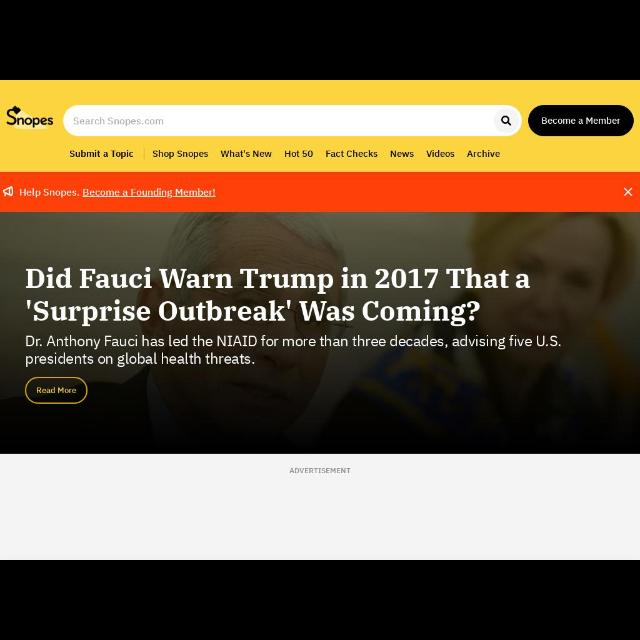backgroundimage: (1, 213, 640, 453)
button: (494, 108, 518, 134)
icon: (622, 186, 634, 198), (4, 186, 15, 198), (502, 115, 512, 126)
image: (6, 106, 54, 130)
input: (63, 104, 523, 138)
multitab: (63, 138, 509, 172)
text: (24, 265, 532, 327), (25, 334, 561, 368), (20, 188, 216, 198), (74, 116, 164, 128), (152, 148, 208, 160), (70, 150, 134, 160), (288, 466, 352, 476), (220, 150, 272, 158), (326, 150, 378, 158), (468, 150, 500, 158), (284, 150, 314, 158), (426, 150, 456, 158), (390, 150, 414, 158)
textbutton: (528, 105, 634, 136), (25, 376, 89, 404)
